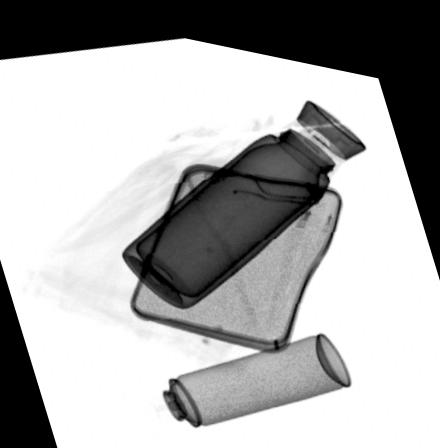Sprayer: (123, 319, 354, 433)
